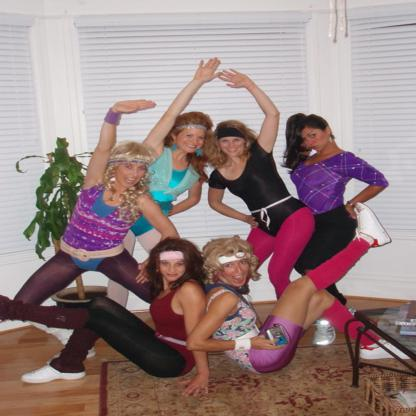face: (222, 254, 251, 288), (176, 126, 207, 156), (158, 252, 186, 283), (116, 163, 148, 190), (300, 128, 327, 153), (218, 133, 246, 157)
